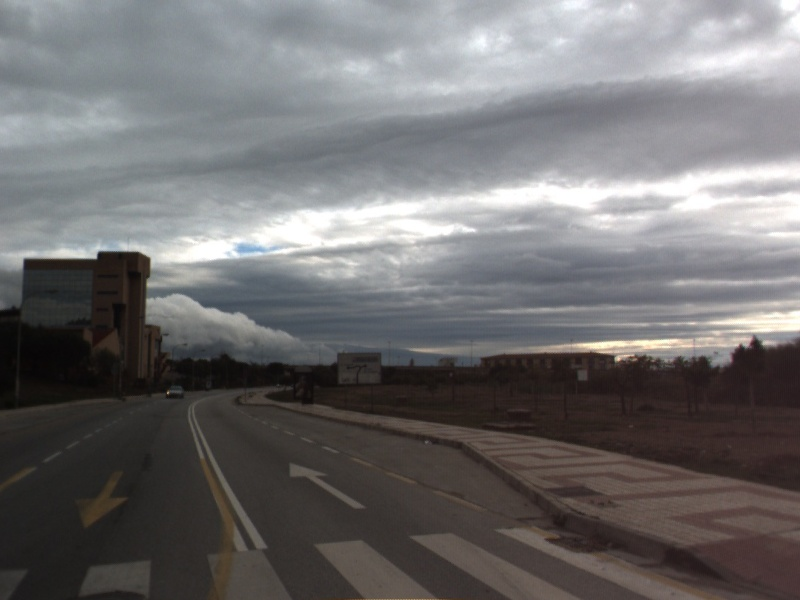STRAIGHT: (287, 460, 370, 511)
